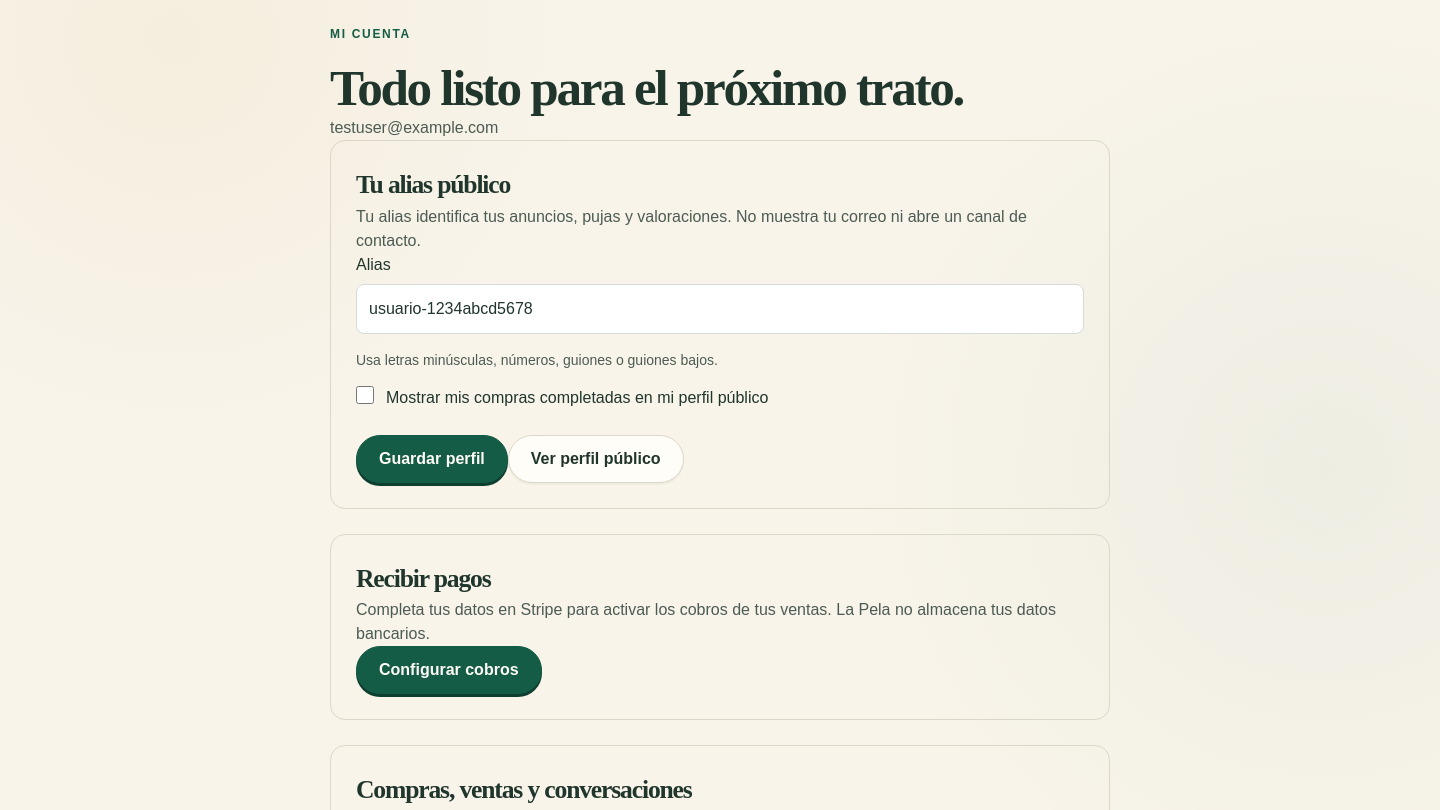
Test: User Account - Public Profile Customization (/user-profile) (LP-FEAT-013) › saves customized alias and show_purchases preference successfully (AC-01, AC-05)
This screenshot has width=1440, height=810.
Replace the text in the field labelled "Alias" with "nuevo_alias_vintage" at coordinates (720, 309), box x1=356 y1=284 x2=1084 y2=334
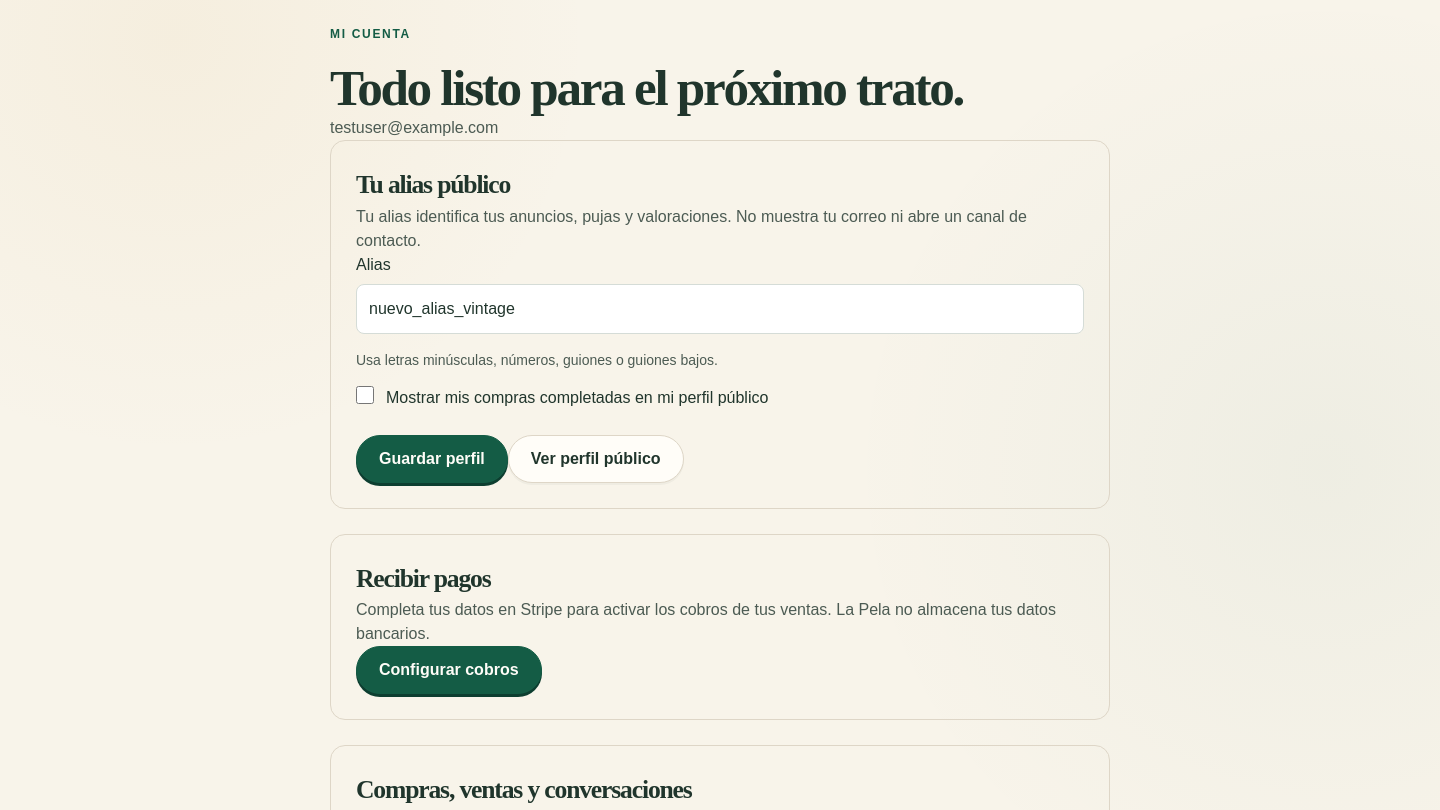
Click the checkbox labelled "Mostrar mis compras completadas en mi perfil público" at coordinates (365, 395), box x1=356 y1=386 x2=374 y2=404
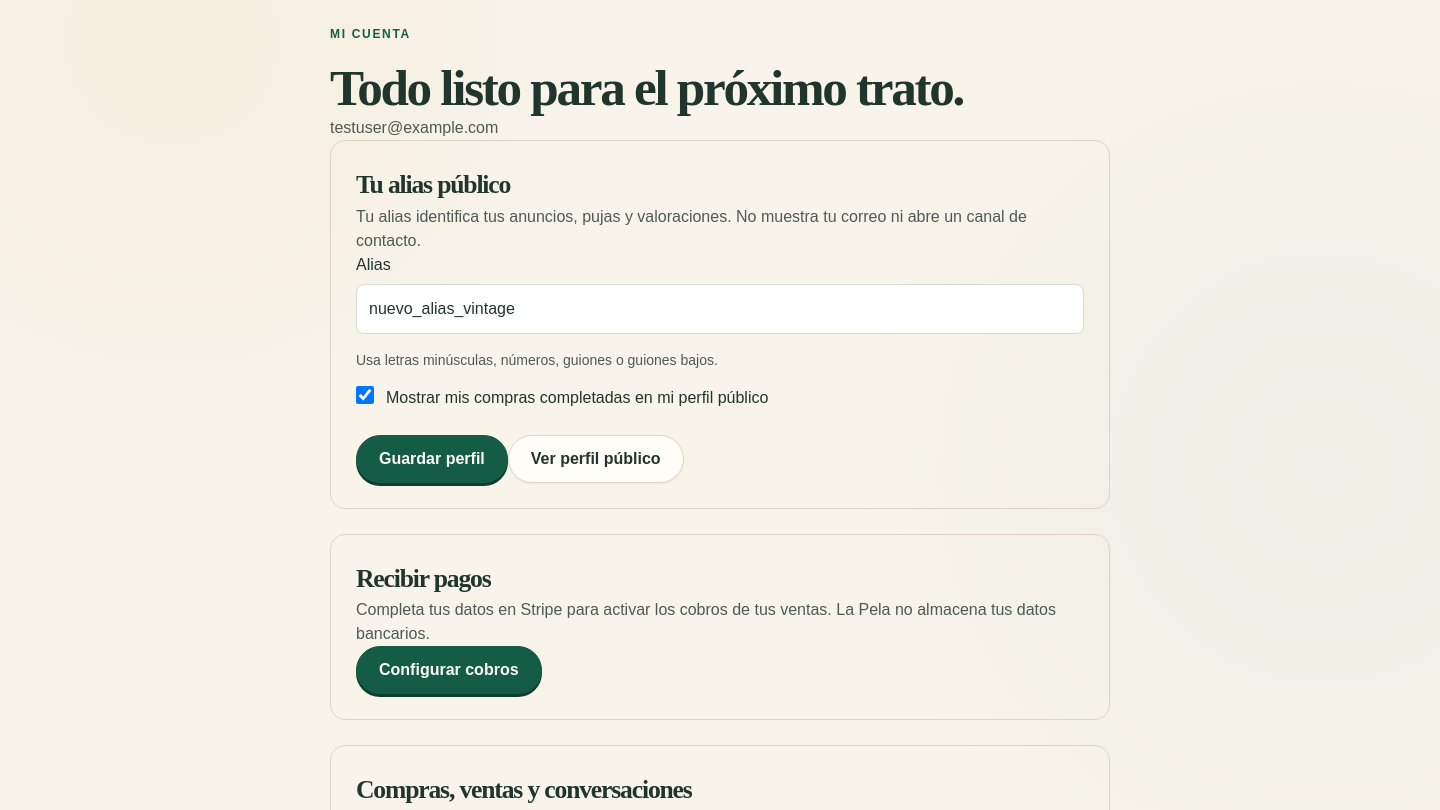
Click the button "Guardar perfil" at coordinates (432, 459), box x1=356 y1=435 x2=508 y2=483
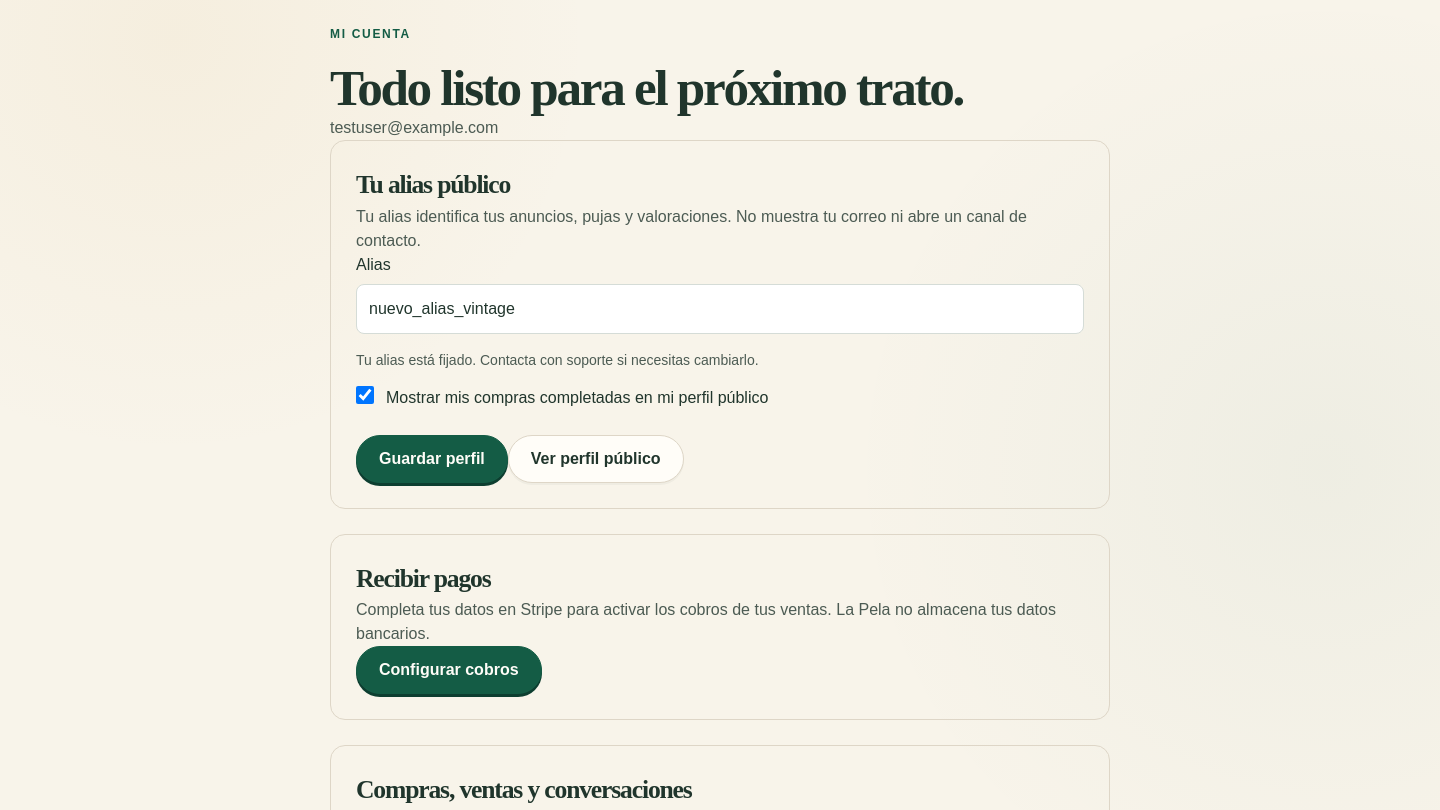
Expected: the text "Tu alias está fijado" is shown, x1=356 y1=352 x2=759 y2=368
